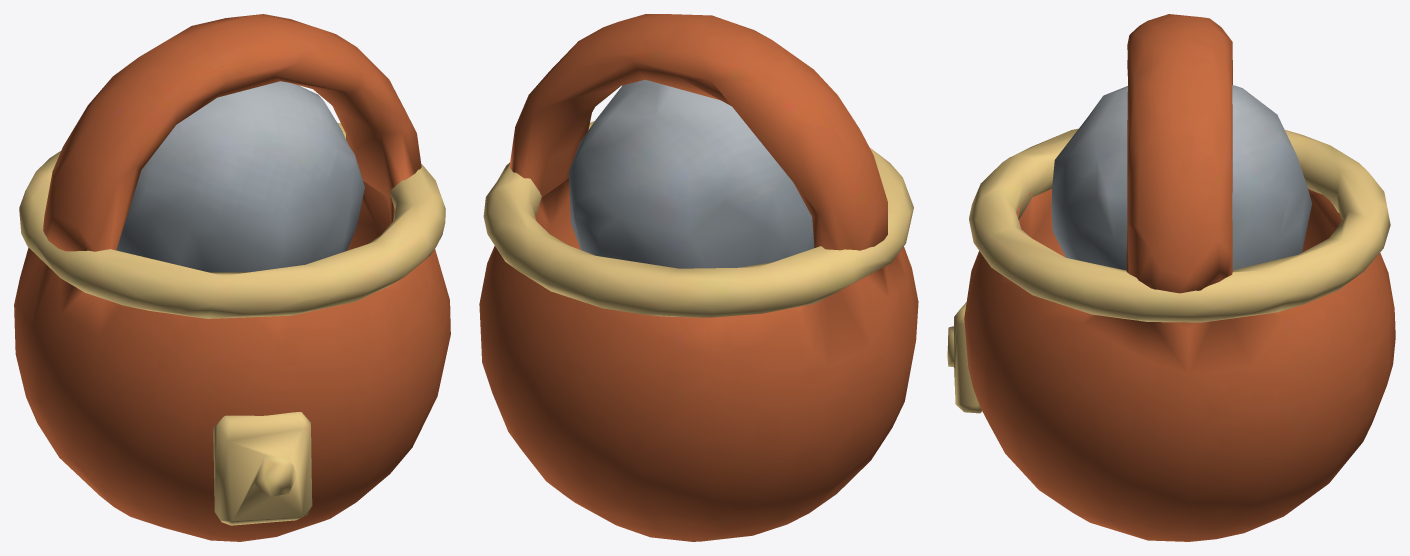
The model's file is sling.glb.
The picture shows the model from 3 angles, left to right: view 1: azimuth 30°, elevation 25°; view 2: azimuth 150°, elevation 25°; view 3: azimuth 270°, elevation 25°; orthographic projection.
Parts seen in each view (by area): view 1: leather; view 2: leather; view 3: leather.
Part boxes in pixels (left/top/right/bottom): leather: left=14, top=14, right=450, bottom=541; leather: left=479, top=14, right=918, bottom=541; leather: left=947, top=14, right=1395, bottom=541.
Size of the model in its own units: 0.4391 by 0.5486 by 0.4562.
Materials: 1 (1 with a texture image).
